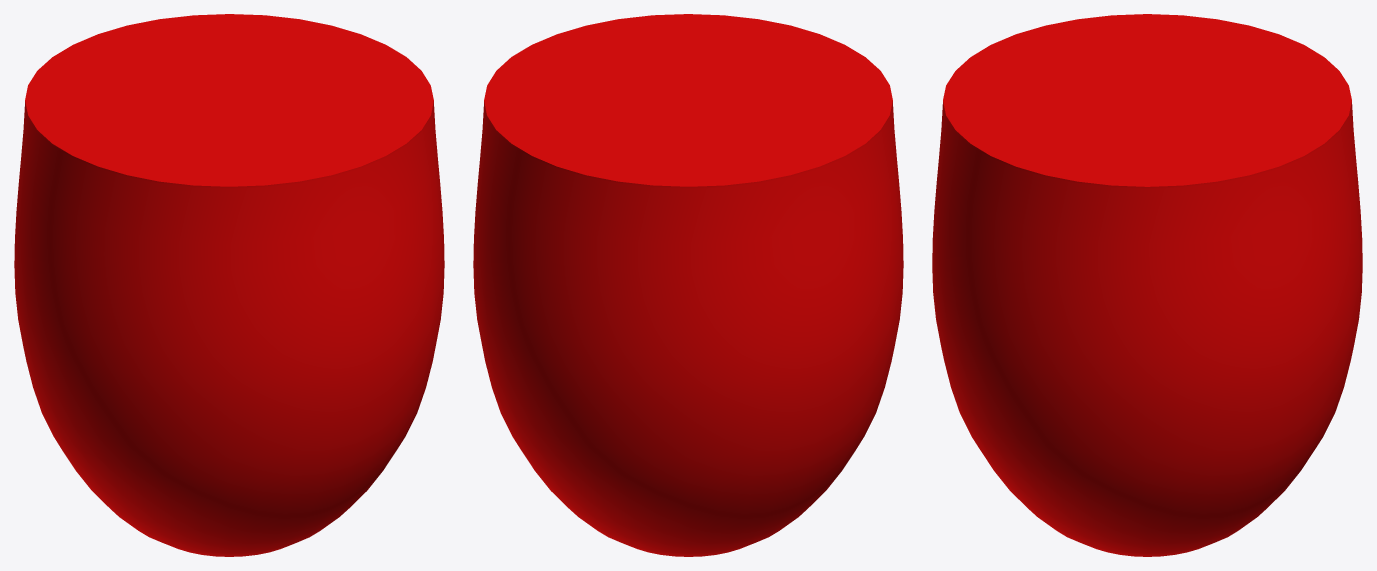
The model's file is Liquid.fbx.
The picture shows the model from 3 angles, left to right: view 1: azimuth 30°, elevation 25°; view 2: azimuth 150°, elevation 25°; view 3: azimuth 270°, elevation 25°; orthographic projection.
Parts seen in each view (by area): view 1: Liquid2; view 2: Liquid2; view 3: Liquid2.
Part boxes in pixels (x1=…): Liquid2: x1=14, y1=14, x2=444, y2=556; Liquid2: x1=473, y1=14, x2=903, y2=556; Liquid2: x1=932, y1=14, x2=1362, y2=556.
Bounding box in the file's own units: 1.46 × 1.64 × 1.46.
